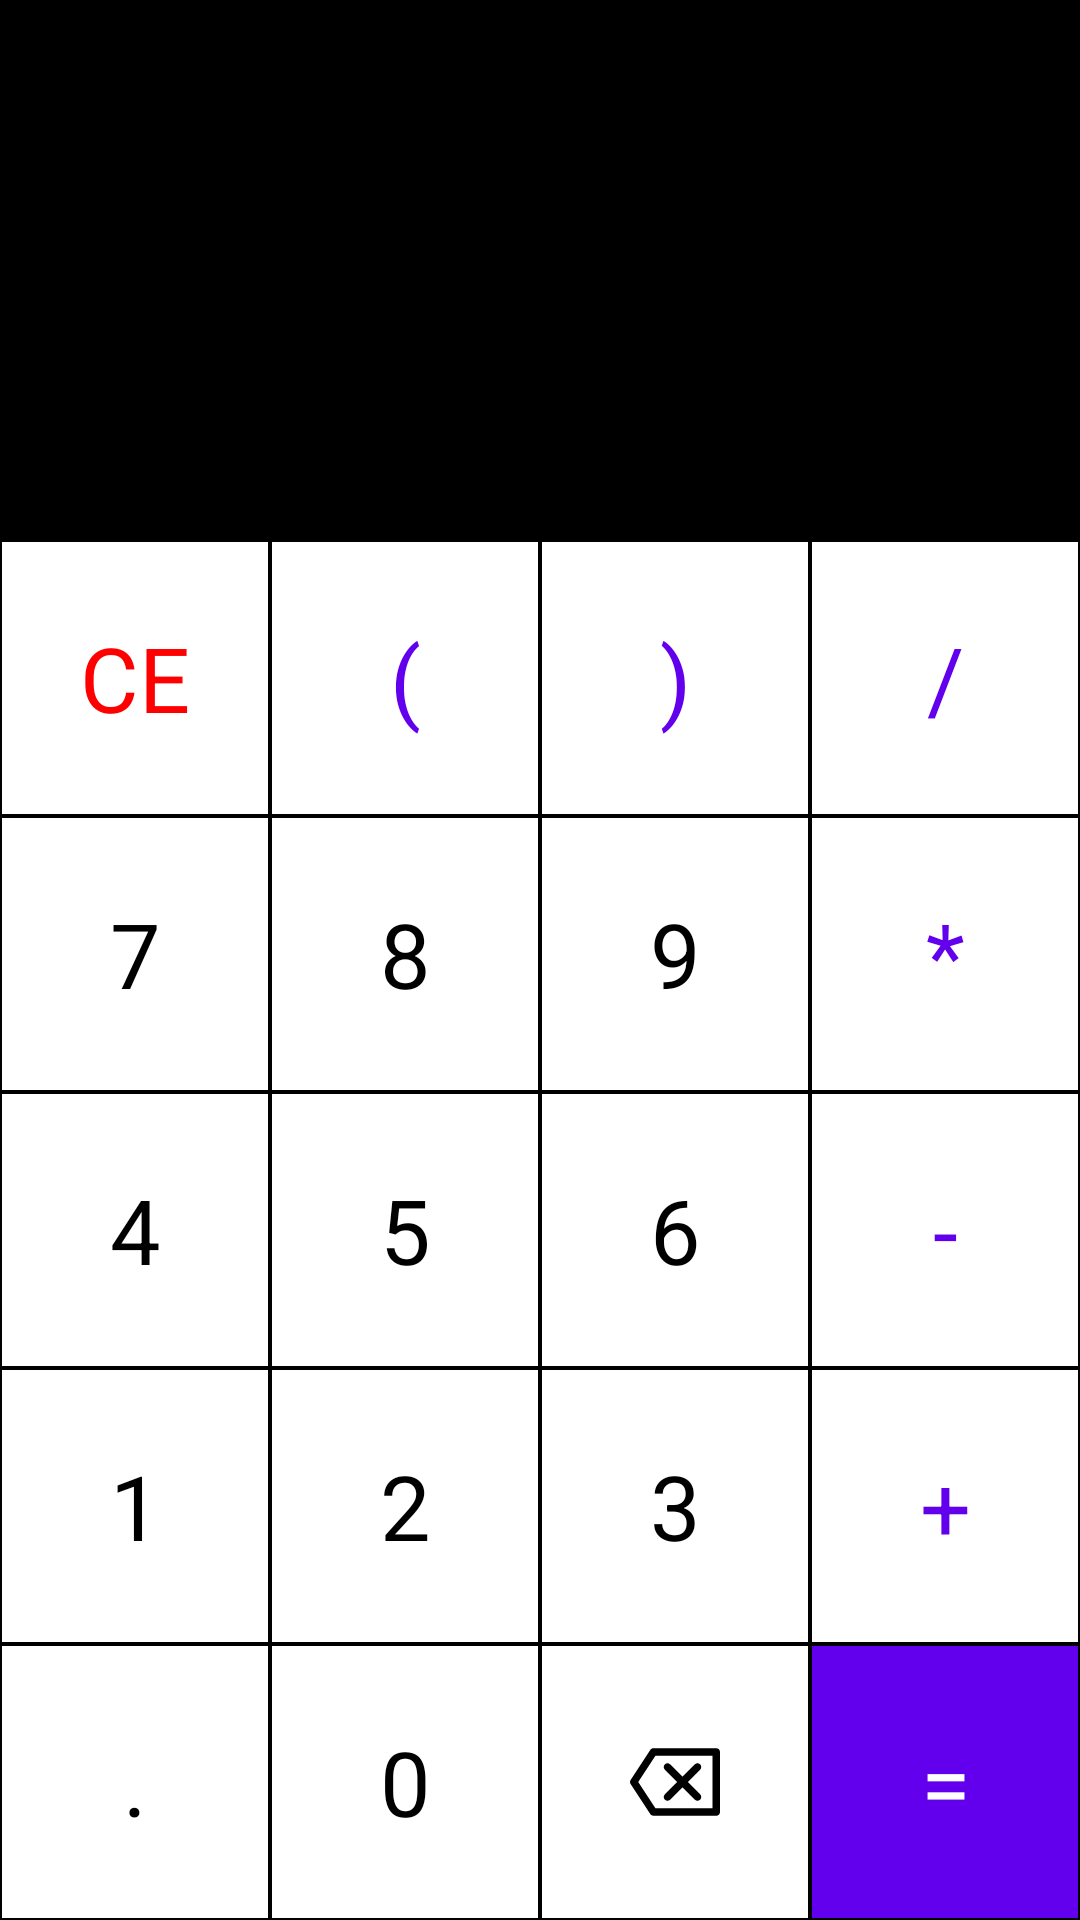

Screen size 1080×1920. Icon name, then its center in pixels as [x,y]:
backspace: [675,1782]
